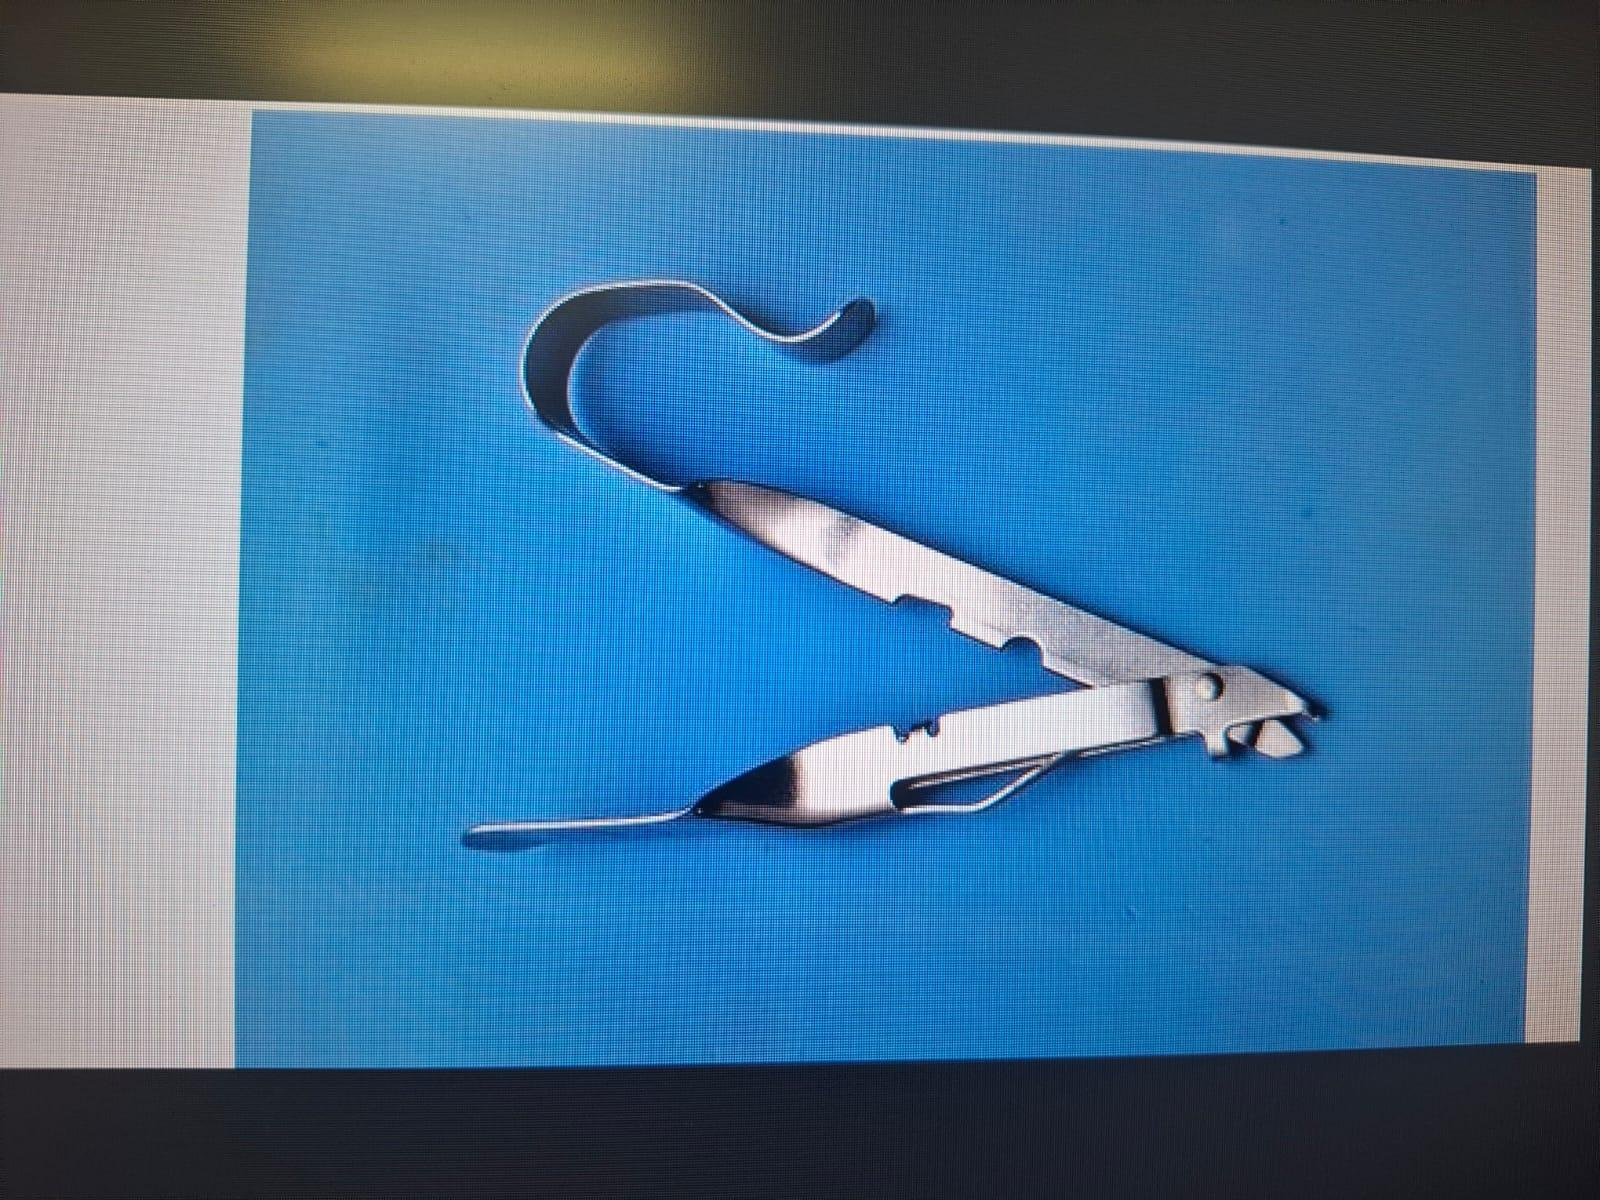Stapler Remover: (446, 262, 1344, 874)
